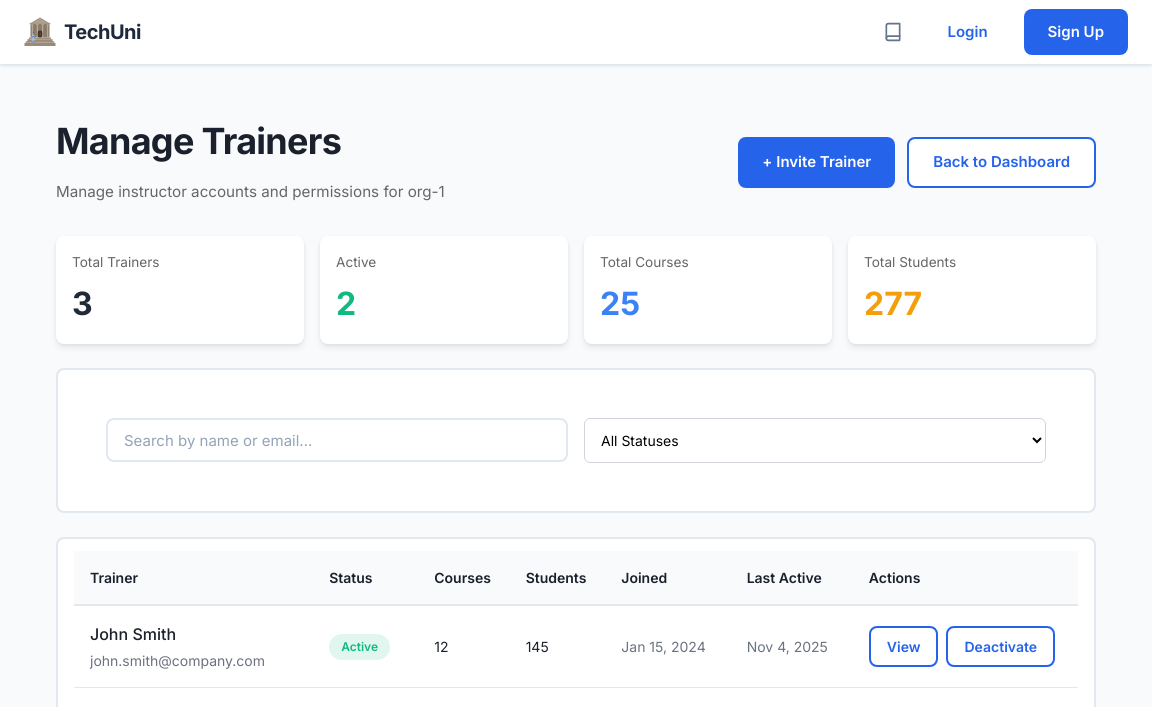
Scenario: ManageTrainers Component › Search and Filtering › filters trainers by status
The image size is (1152, 707).
Select "Inactive" in the dropdown showing "All Statuses" at [815, 441], box [584,418,1046,463]
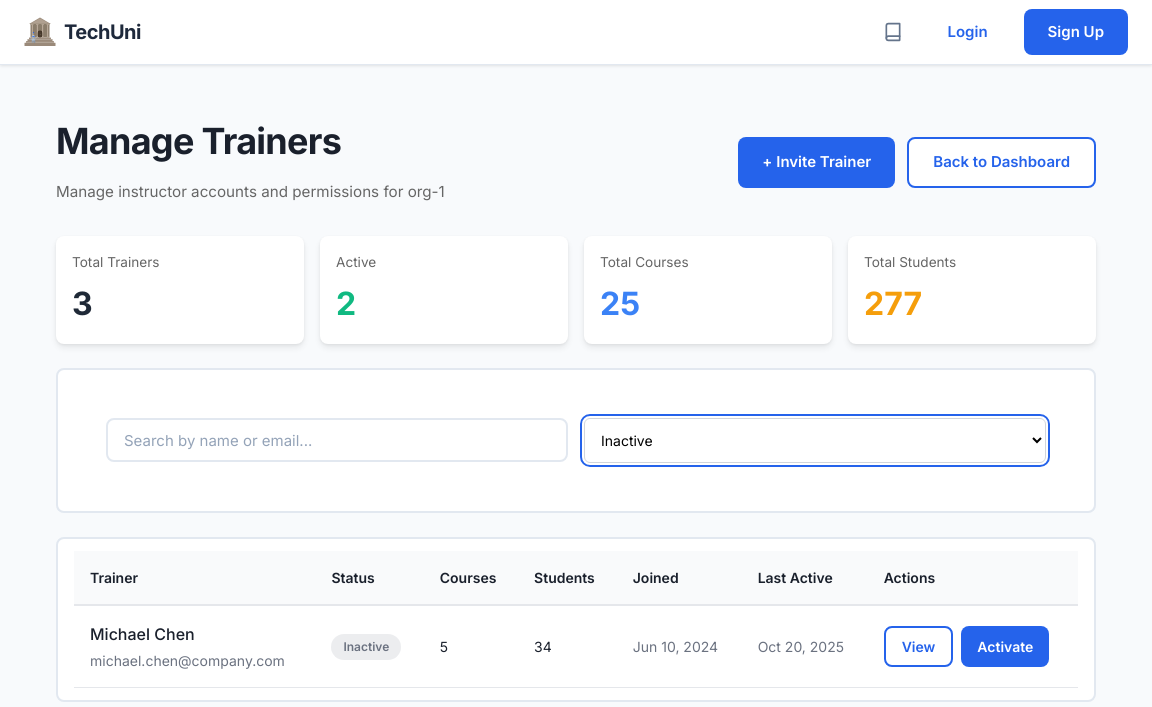
Expected: the text "Michael Chen" is shown, [90,624,195,644]
Now the text "John Smith" is gone
